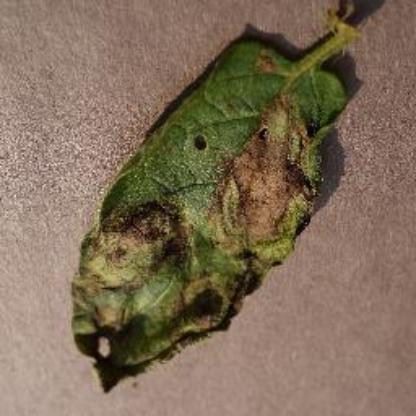Late-Blight: (69, 12, 379, 388)
